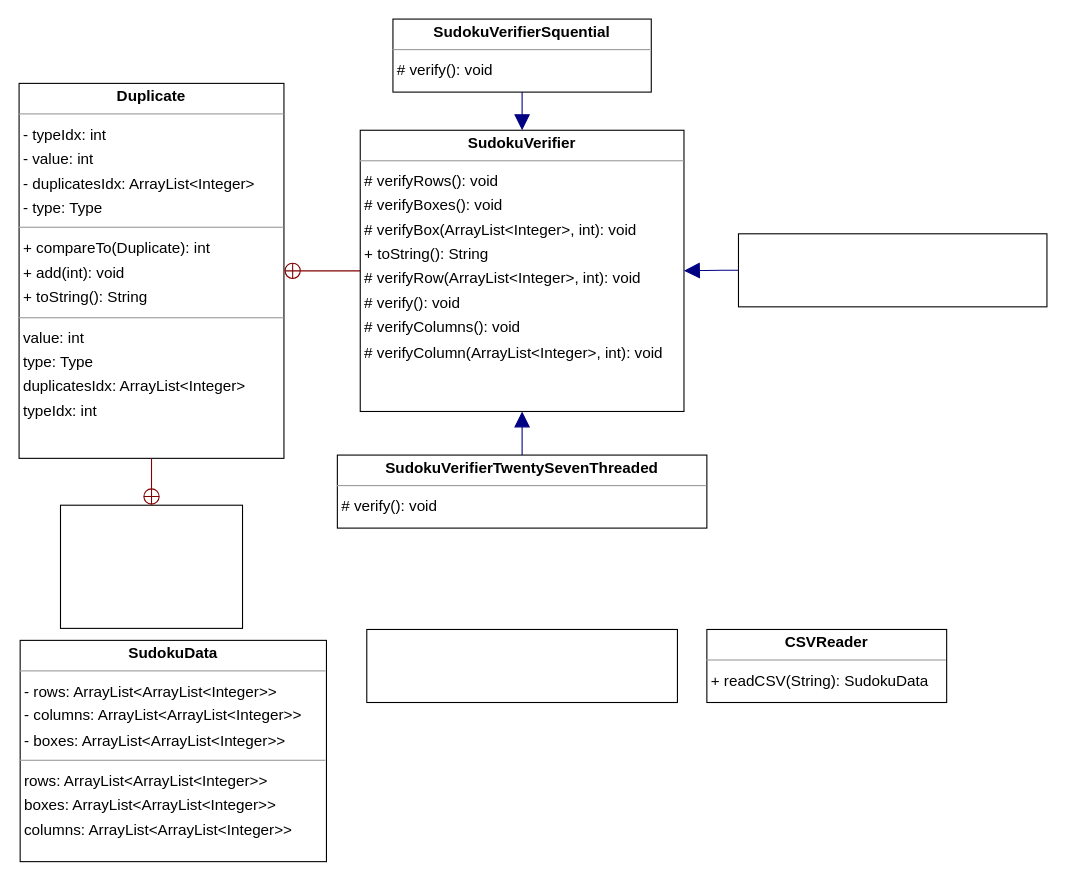
The diagram is 1066 pixels wide and 881 high, and some of its shapes have lost their labels. The box of each missing label's shape, as (x1, y1, x2, y2) in pixels:
<<enumeration>> Type + values(): Type[] + valueOf(String): Type: (59, 504, 243, 628)
SudokuVerifierFactory + createVerifier(String, int): SudokuVerifier: (366, 628, 677, 703)
SudokuVerifierThreeThreaded # verify(): void: (737, 233, 1047, 307)
